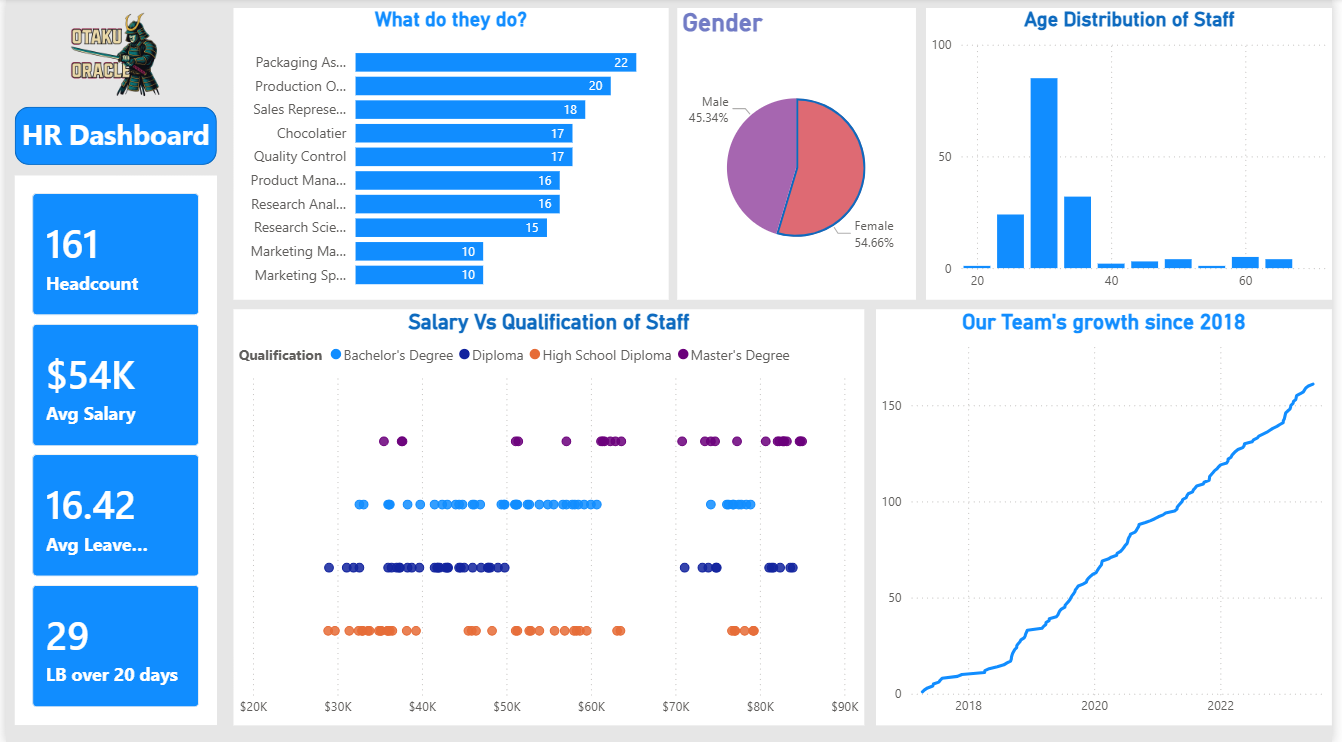

The page's visual inventory and layout, read from the dashboard file:
{"tool":"powerbi","page":{"name":"Dashboard","canvas":[1280,720],"ordinal":0},"visuals":[{"type":"cardVisual","fields":{"Data":["Staff.Headcount","Staff.Avg Salary","Staff.Avg Leave Balance","Staff.LB over 20 days"]},"box":[8.8,171.2,195,530],"z":0},{"type":"clusteredBarChart","title":"What do they do?","fields":{"Category":["Staff.Job Title"],"Y":["Staff.Headcount"]},"box":[220,10,420,281.2],"z":1000},{"type":"pieChart","title":"Gender","fields":{"Category":["Staff.Gender"],"Y":["Staff.Headcount"]},"box":[647.5,10,230,281.2],"z":2000},{"type":"clusteredColumnChart","title":"Age Distribution of Staff","fields":{"Category":["Staff.Age (bins)"],"Y":["Staff.Headcount"]},"box":[887.5,10,392.5,281.2],"z":3000},{"type":"scatterChart","title":"Salary Vs Qualification of Staff","fields":{"X":["Staff.Salary"],"Y":["Qualification Dimension.Qualification ID"],"Series":["Qualification Dimension.Qualification"]},"box":[220,300,608.8,401.2],"z":4000},{"type":"lineChart","title":"Our Team''s growth since 2018","fields":{"Y":["Staff.Cummulative Headcount"],"Category":["Staff.Date of Join"]},"box":[840,300,440,401.2],"z":5000},{"type":"image","box":[8.8,10,195,95],"z":6000},{"type":"shape","box":[8.8,105,195,56.2],"z":7000},{"type":"textbox","box":[8.8,108.8,195,51.2],"z":8000}]}

Visuals, with their boxes in screenshot pixels (x1, y1, x2, y2), scaled from the page's 1280x720 canvas onto the 1342x742 screenshot:
cardVisual - Staff.Headcount x Staff.Avg Salary: 9 176 214 723
"What do they do?" clusteredBarChart: 231 10 671 300
"Gender" pieChart: 679 10 920 300
"Age Distribution of Staff" clusteredColumnChart: 930 10 1341 300
"Salary Vs Qualification of Staff" scatterChart: 231 309 869 723
"Our Team''s growth since 2018" lineChart: 881 309 1341 723
image: 9 10 214 108
shape: 9 108 214 166
textbox: 9 112 214 165
